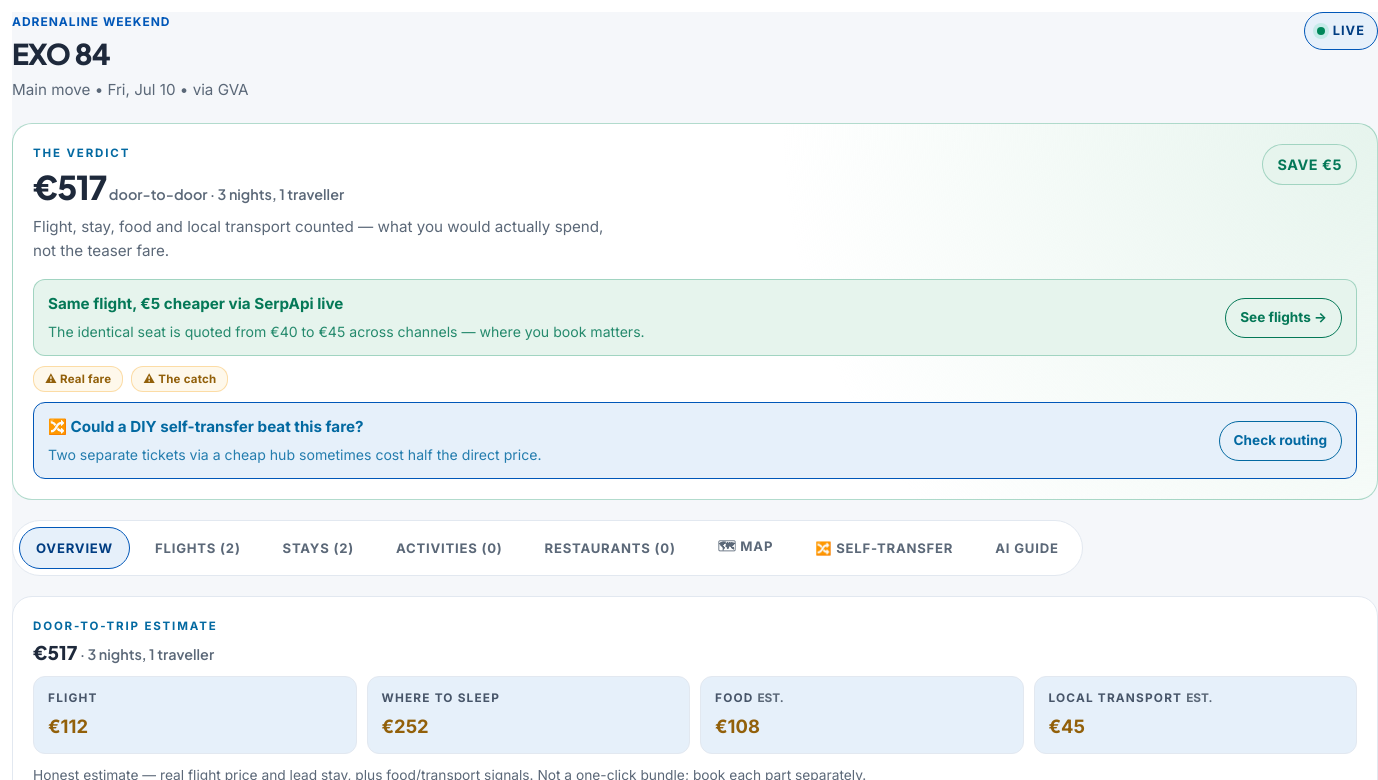
it: TripExploreDashboard — stays tab › filters by minimum rating and reports hidden stays instead of dropping them silently
The width and height of the screenshot is (1378, 780).
Click the tab "Stays (2)".
click(318, 548)  # box [266, 527, 371, 569]
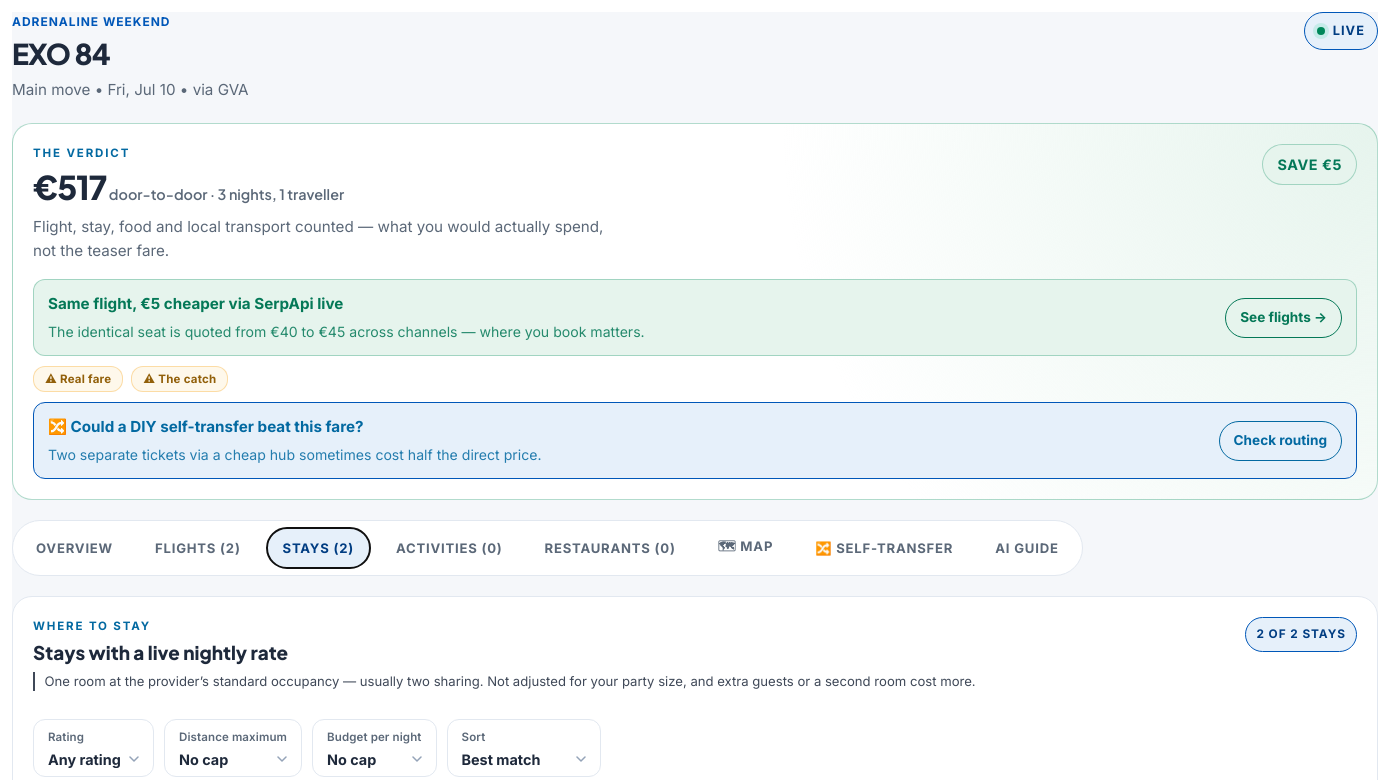
Select "4★+" in the dropdown named "Minimum rating" at (94,759), box [48, 750, 139, 768]
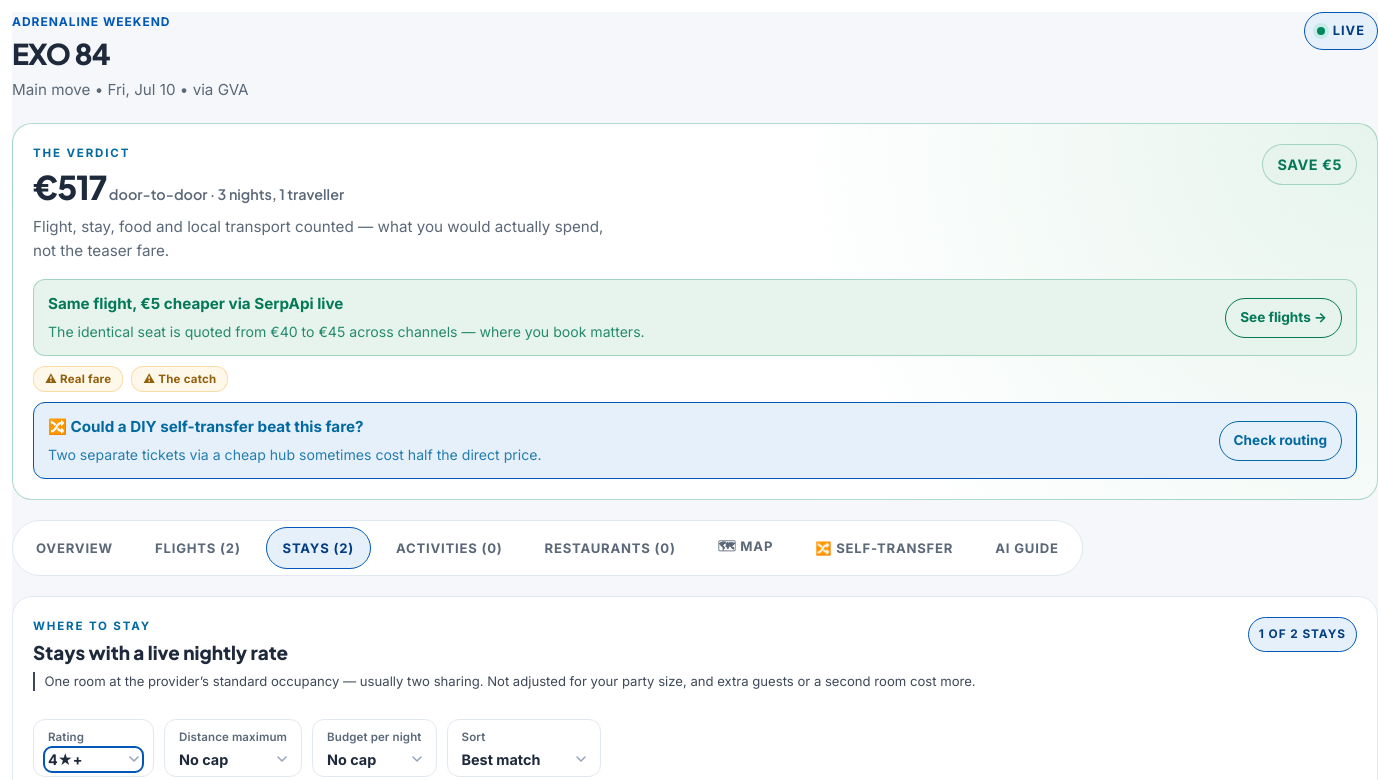
Now the text "1 of 2 stays" is shown, box [1248, 617, 1357, 652]
